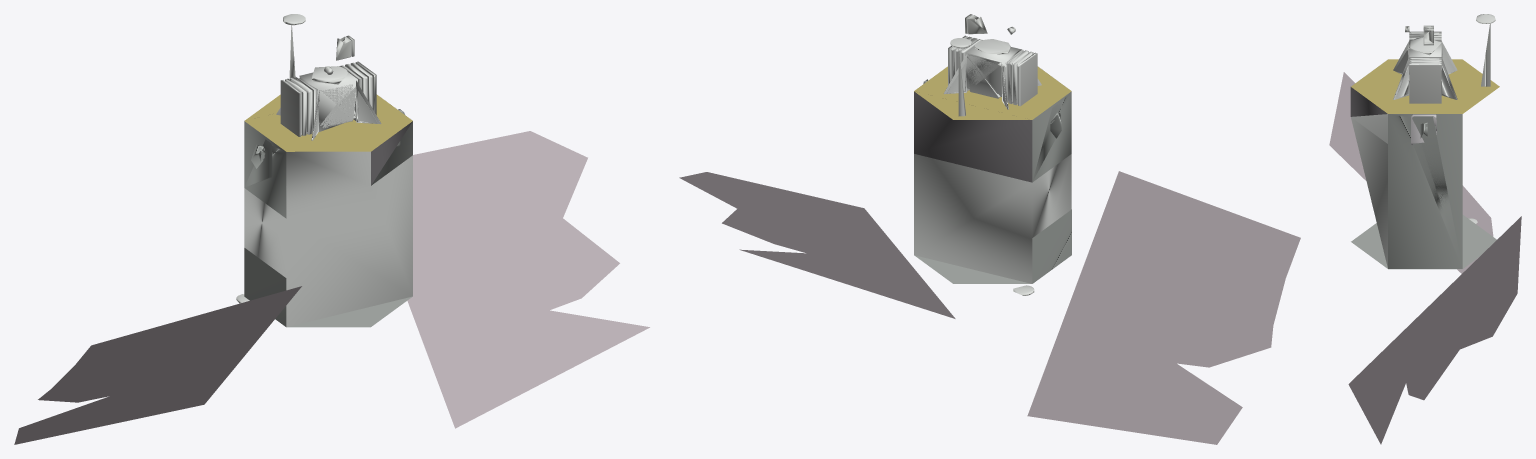
Rendered from total-ozone-mapping-spectrometer-toms.glb.
3 renders of one model, left to right at view 1: azimuth 30°, elevation 25°; view 2: azimuth 150°, elevation 25°; view 3: azimuth 270°, elevation 25°, orthographic. The views are drawn at different scales.
Parts seen in each view (by area): view 1: Fake; view 2: Fake; view 3: Fake.
Part boxes in pixels (x1,y1,x2,y2): Fake: [14, 14, 649, 444]; Fake: [679, 14, 1300, 444]; Fake: [1329, 14, 1521, 444].
Bounding box in the file's own units: 38.87 × 23.42 × 12.37.
Materials: 1 (1 with a texture image).
